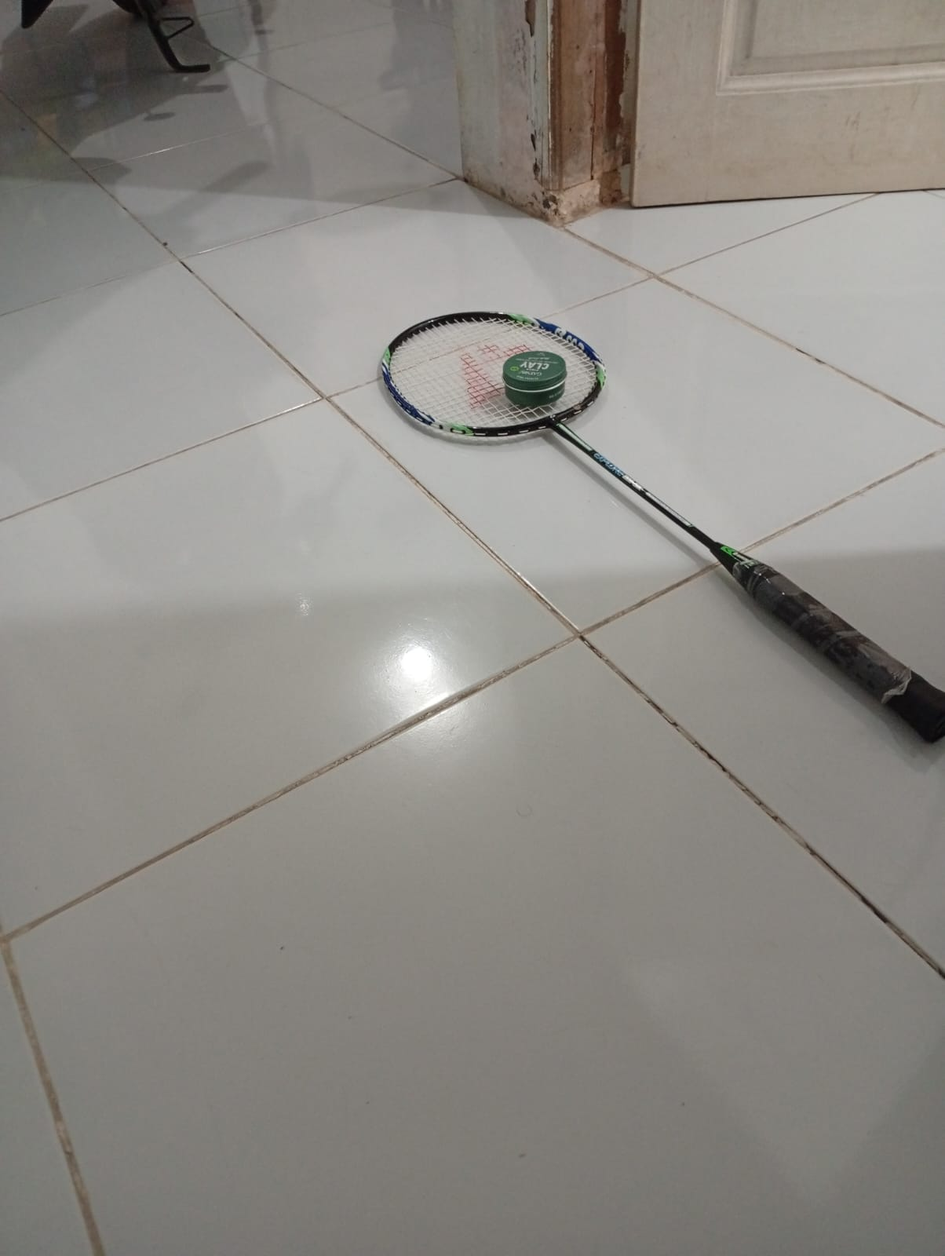Minyak_Rambut: (474, 333, 582, 421)
